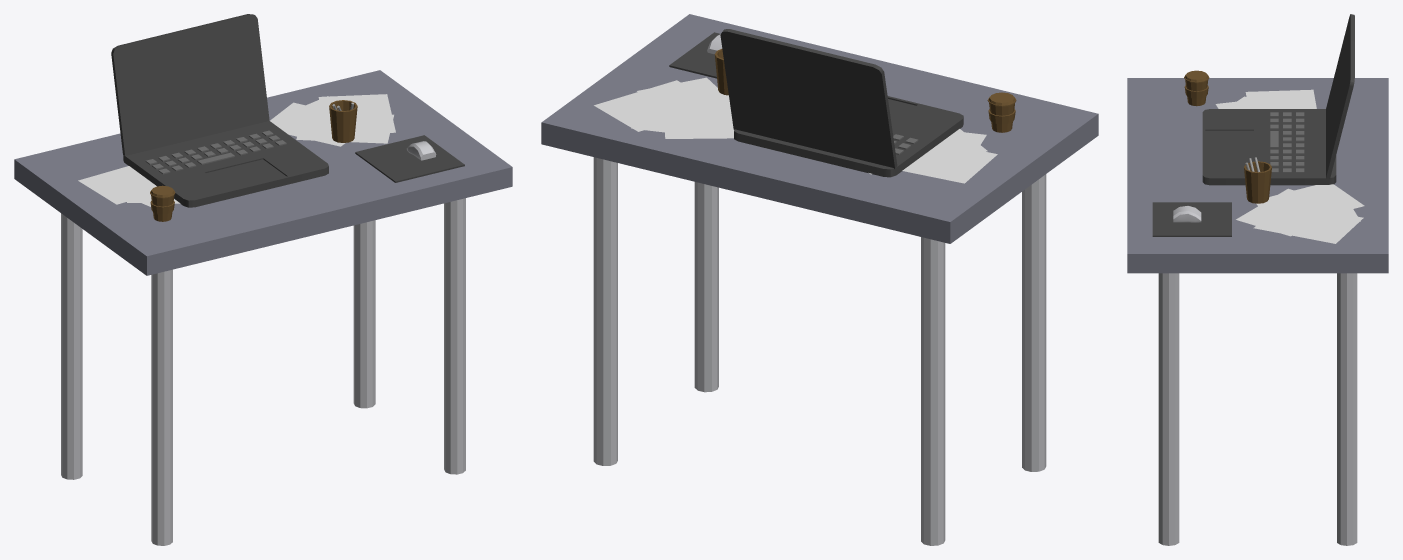
Rendered from laptop_table.fbx.
The picture shows the model from 3 angles, left to right: view 1: azimuth 30°, elevation 25°; view 2: azimuth 150°, elevation 25°; view 3: azimuth 270°, elevation 25°; orthographic projection. The views are drawn at different scales.
Visible parts, largest first — view 1: mesa3; view 2: mesa3; view 3: mesa3.
Boxes of the visible parts, x1,y1,x2,y2 form: mesa3: (14,14,512,545); mesa3: (541,14,1098,545); mesa3: (1127,14,1388,545).
Size of the model in its own units: 100 by 109 by 62.74.
